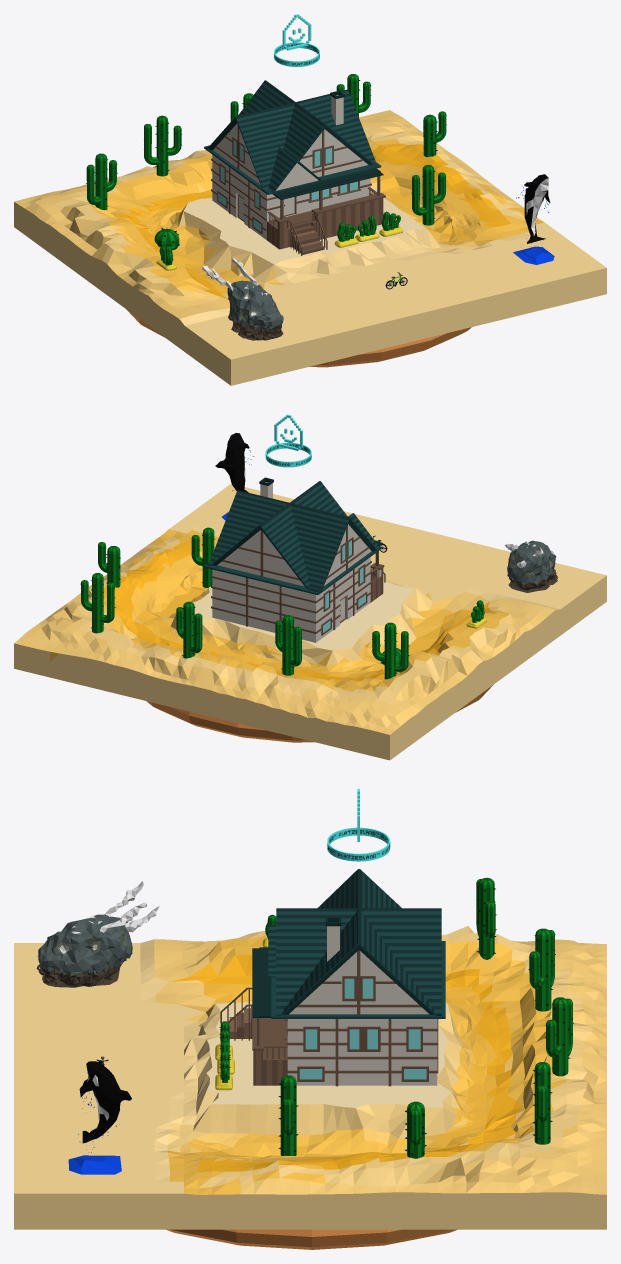
The picture shows the model from 3 angles, top to bottom: view 1: azimuth 30°, elevation 25°; view 2: azimuth 150°, elevation 25°; view 3: azimuth 270°, elevation 25°; orthographic projection. The views are drawn at different scales.
Visible parts, largest first — view 1: Cube.001, Cube.793, OBJRANDOM_METEORITE, ANIMAL_ORCA, UNDERGROUND_PIZZA, Cylinder.044, Cylinder.037, Cylinder.045, TYPE_PREMIUM, Cylinder.038, Cylinder.042; view 2: Cube.001, Cube.793, OBJRANDOM_METEORITE, UNDERGROUND_PIZZA, Cylinder.045, Cylinder.042, Cylinder.044, Cylinder.043, ANIMAL_ORCA, TYPE_PREMIUM, Cylinder.037, Cylinder.038; view 3: Cube.001, Cube.793, OBJRANDOM_METEORITE, UNDERGROUND_PIZZA, ANIMAL_ORCA, Cylinder.044, Cylinder.043, Cylinder.045, Cylinder.042, Cylinder.037, TYPE_PREMIUM, Cylinder.038.
Boxes of the visible parts, x1,y1,x2,y2 form: Cube.001: (14, 110, 606, 385); Cube.793: (204, 80, 385, 255); OBJRANDOM_METEORITE: (202, 258, 283, 340); ANIMAL_ORCA: (513, 174, 554, 264); UNDERGROUND_PIZZA: (126, 309, 471, 367); Cylinder.044: (144, 115, 181, 176); Cylinder.037: (411, 165, 446, 225); Cylinder.045: (86, 153, 117, 209); TYPE_PREMIUM: (274, 14, 319, 66); Cylinder.038: (423, 111, 446, 157); Cylinder.042: (336, 74, 371, 116); Cube.001: (14, 483, 606, 760); Cube.793: (204, 477, 385, 642); OBJRANDOM_METEORITE: (505, 540, 557, 592); UNDERGROUND_PIZZA: (146, 685, 492, 742); Cylinder.045: (372, 622, 409, 679); Cylinder.042: (80, 573, 115, 633); Cylinder.044: (275, 615, 301, 675); Cylinder.043: (176, 601, 202, 658); ANIMAL_ORCA: (215, 433, 254, 520); TYPE_PREMIUM: (265, 414, 311, 467); Cylinder.037: (191, 527, 218, 587); Cylinder.038: (98, 542, 120, 587); Cube.001: (14, 926, 606, 1229); Cube.793: (220, 869, 445, 1086); OBJRANDOM_METEORITE: (36, 881, 159, 987); UNDERGROUND_PIZZA: (166, 1229, 457, 1249); ANIMAL_ORCA: (68, 1060, 131, 1174); Cylinder.044: (528, 928, 555, 1011); Cylinder.043: (545, 997, 573, 1076); Cylinder.045: (476, 877, 496, 959); Cylinder.042: (532, 1062, 552, 1144); Cylinder.037: (278, 1075, 298, 1155); TYPE_PREMIUM: (327, 789, 390, 861); Cylinder.038: (405, 1101, 426, 1158).
Bounding box in the file's own units: 4002 × 2649 × 4001.
Materials: 31 (4 with a texture image).
